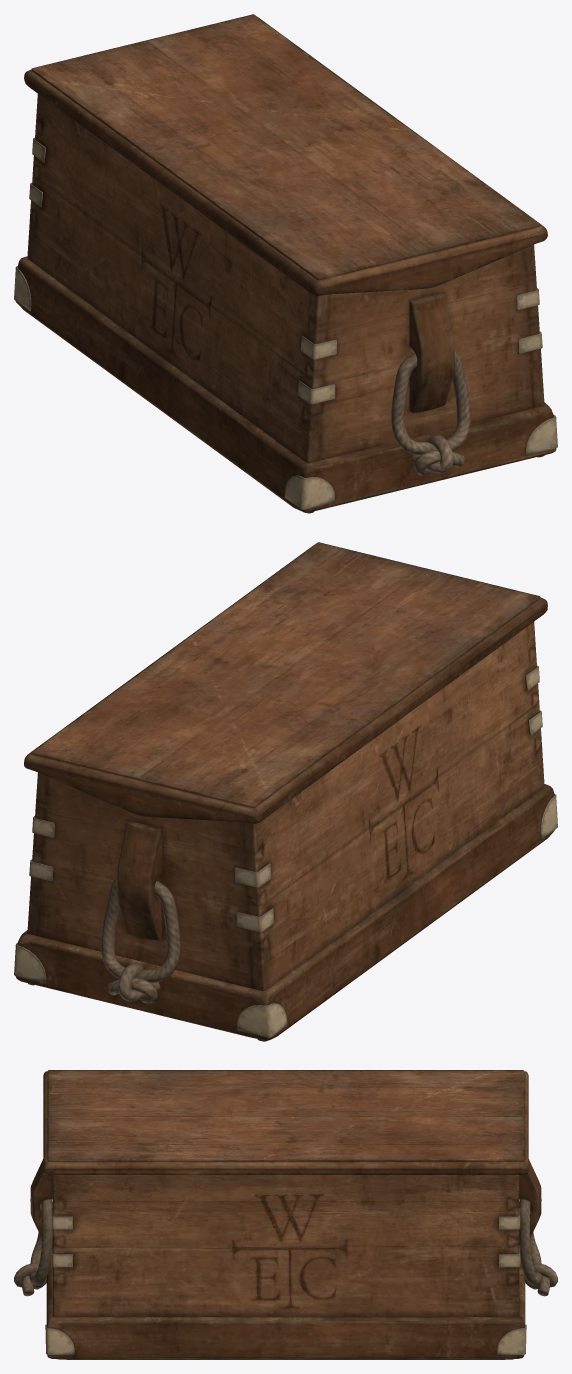
The model's file is wooden_crate_02.gltf.
The picture shows the model from 3 angles, top to bottom: view 1: azimuth 30°, elevation 25°; view 2: azimuth 150°, elevation 25°; view 3: azimuth 270°, elevation 25°; orthographic projection. The views are drawn at different scales.
Parts seen in each view (by area): view 1: wooden_crate_02_crate, wooden_crate_02_lid; view 2: wooden_crate_02_crate, wooden_crate_02_lid; view 3: wooden_crate_02_crate, wooden_crate_02_lid.
Boxes of the visible parts, box(x1,y1,x2,y2) form: wooden_crate_02_crate: box(14, 94, 557, 513); wooden_crate_02_lid: box(24, 14, 547, 296); wooden_crate_02_crate: box(14, 621, 557, 1041); wooden_crate_02_lid: box(24, 542, 547, 823); wooden_crate_02_crate: box(14, 1159, 557, 1359); wooden_crate_02_lid: box(43, 1070, 528, 1174).
Bounding box in the file's own units: 0.5291 × 0.464 × 1.17.
Materials: 1 (1 with a texture image).
